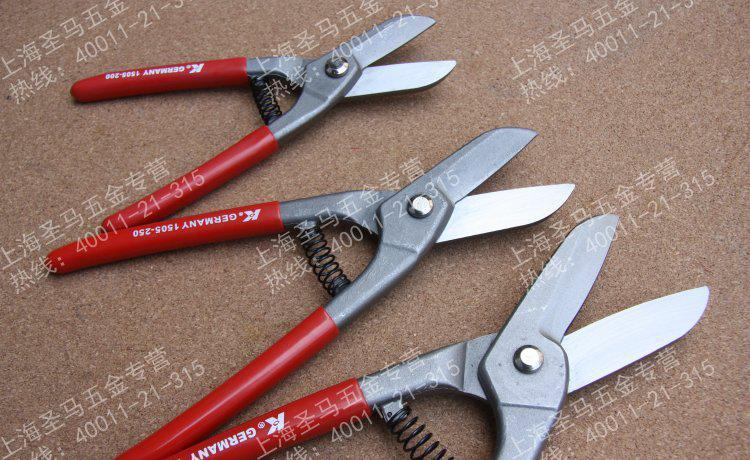scissor: (90, 1, 599, 405)
